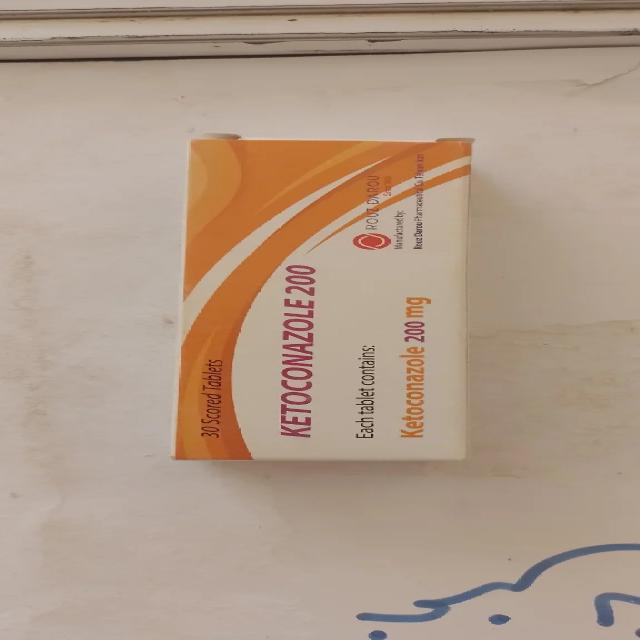drug-name: (276, 259, 316, 440)
